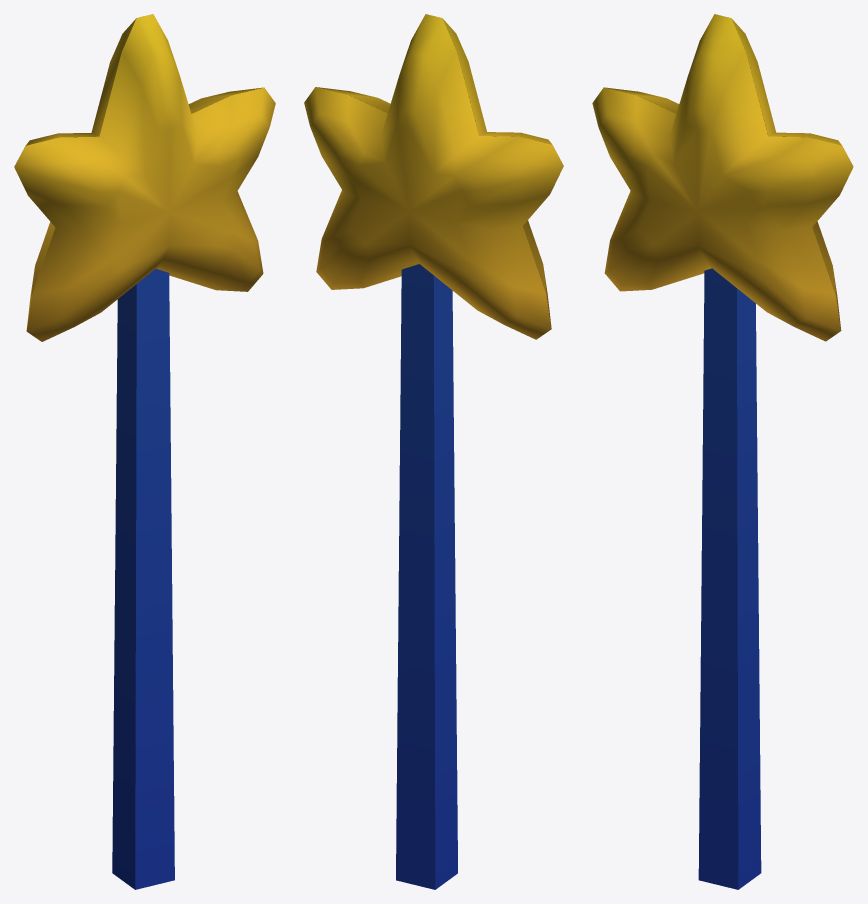
Rendered from Perso_Baguette.fbx.
The picture shows the model from 3 angles, left to right: view 1: azimuth 30°, elevation 25°; view 2: azimuth 150°, elevation 25°; view 3: azimuth 330°, elevation 25°; orthographic projection.
Parts seen in each view (by area): view 1: Perso_baguette; view 2: Perso_baguette; view 3: Perso_baguette.
Part boxes in pixels (bbox=[...]): Perso_baguette: bbox=[14, 14, 275, 889]; Perso_baguette: bbox=[304, 14, 563, 889]; Perso_baguette: bbox=[592, 14, 853, 889].
Bounding box in the file's own units: 68.11 × 215 × 22.3.
